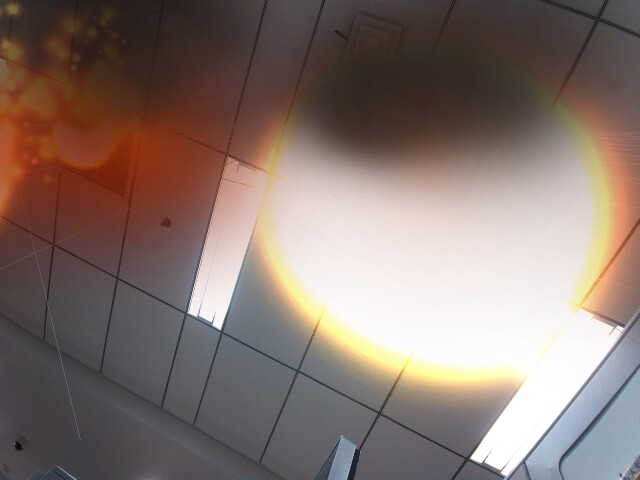fire: (68, 118, 104, 156)
firebig: (335, 110, 639, 376)
